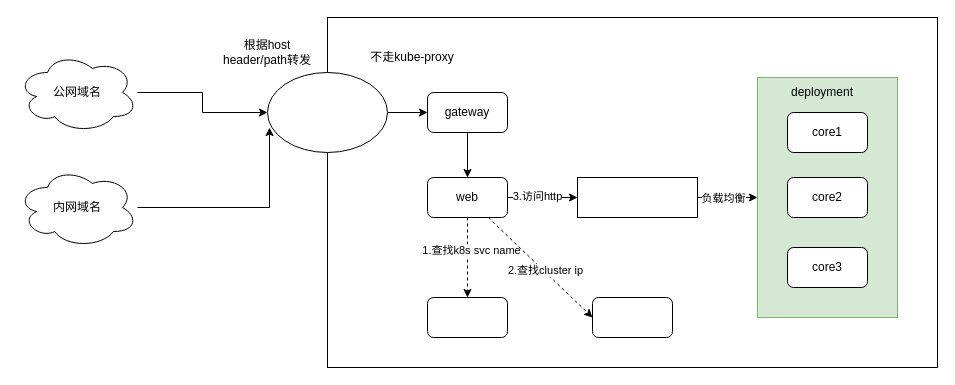
Some shapes in this 955 by 385 pixel diagram are drawn without their labels. Here are the shapes that lost their labels. From the top down, the centre of each, then its label:
the point at 327,112: ingress controller
the point at 637,197: 所在node service kube-proxy
the point at 467,317: eureka
the point at 632,317: core-dns
